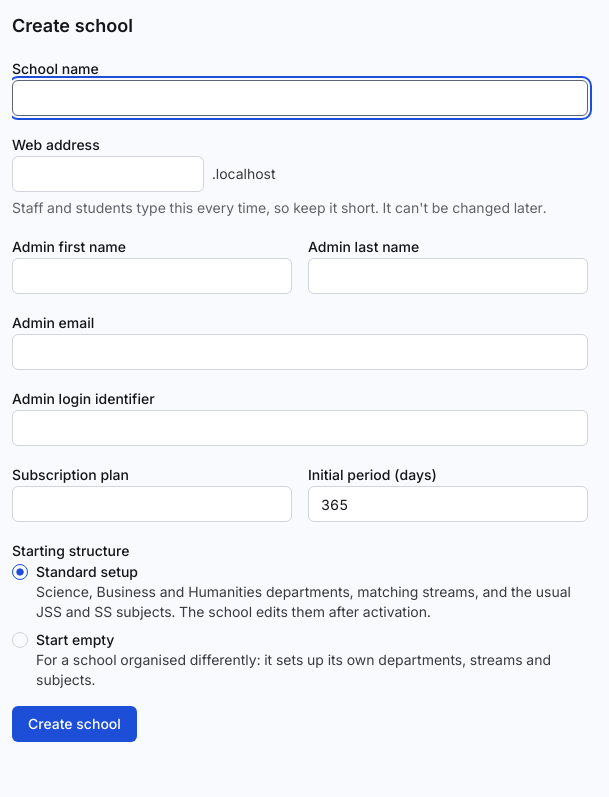
Test case: CreateSchoolPage › suggests a short address from the name and fills it in
In the field labelled "School name": (300,98) [12,80,588,116], type "Our Lady of Apostles Maryway Odo-Ona Ibadan"
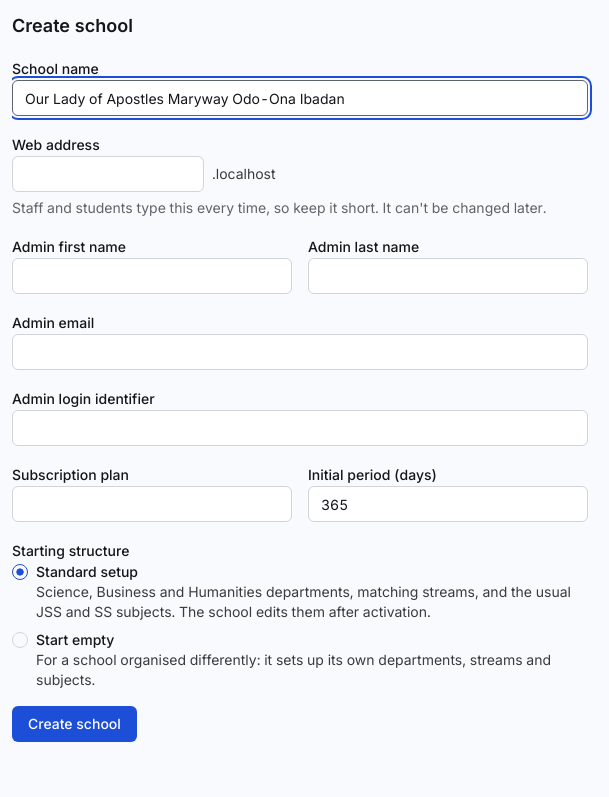
Press Tab
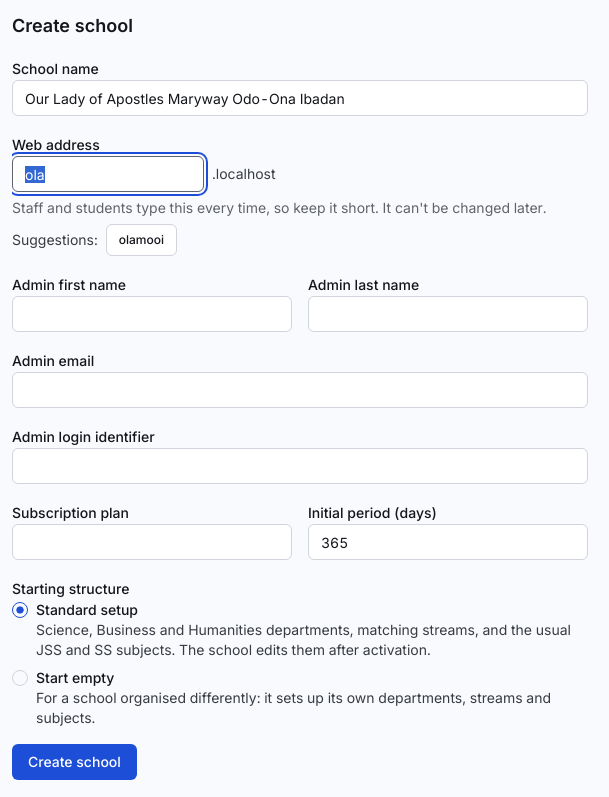
Expected: the field labelled "Web address" holds "ola", [12,156,204,192]
Click the button "olamooi": (141,240) [106,224,177,256]
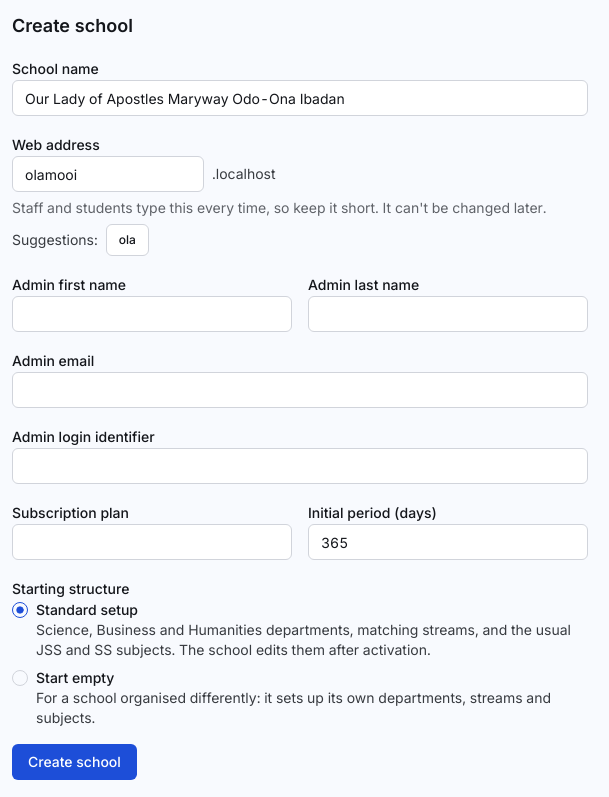
Expected: the field labelled "Web address" holds "olamooi", [12,156,204,192]
